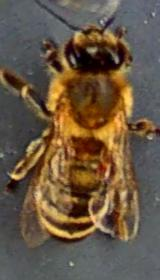varroa_mite: (88, 154, 132, 185)
